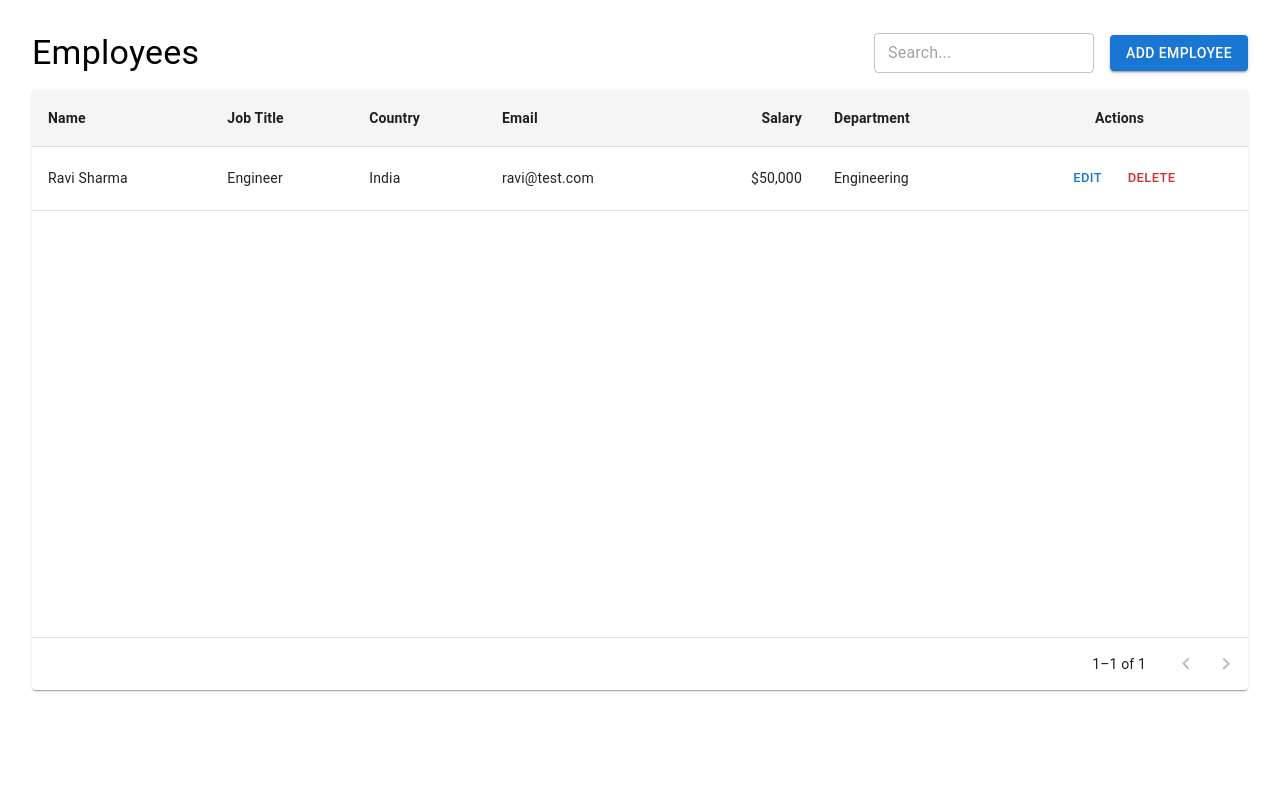
Test case: EmployeesPage › opens edit modal with prefilled data when edit is clicked
Check: the text "Ravi Sharma" is shown, box [32, 147, 211, 211]
What coordinates should you click on to do the following:
click the button "Edit"
I would click on:
 (1088, 178)
Its box is [1056, 163, 1120, 194].
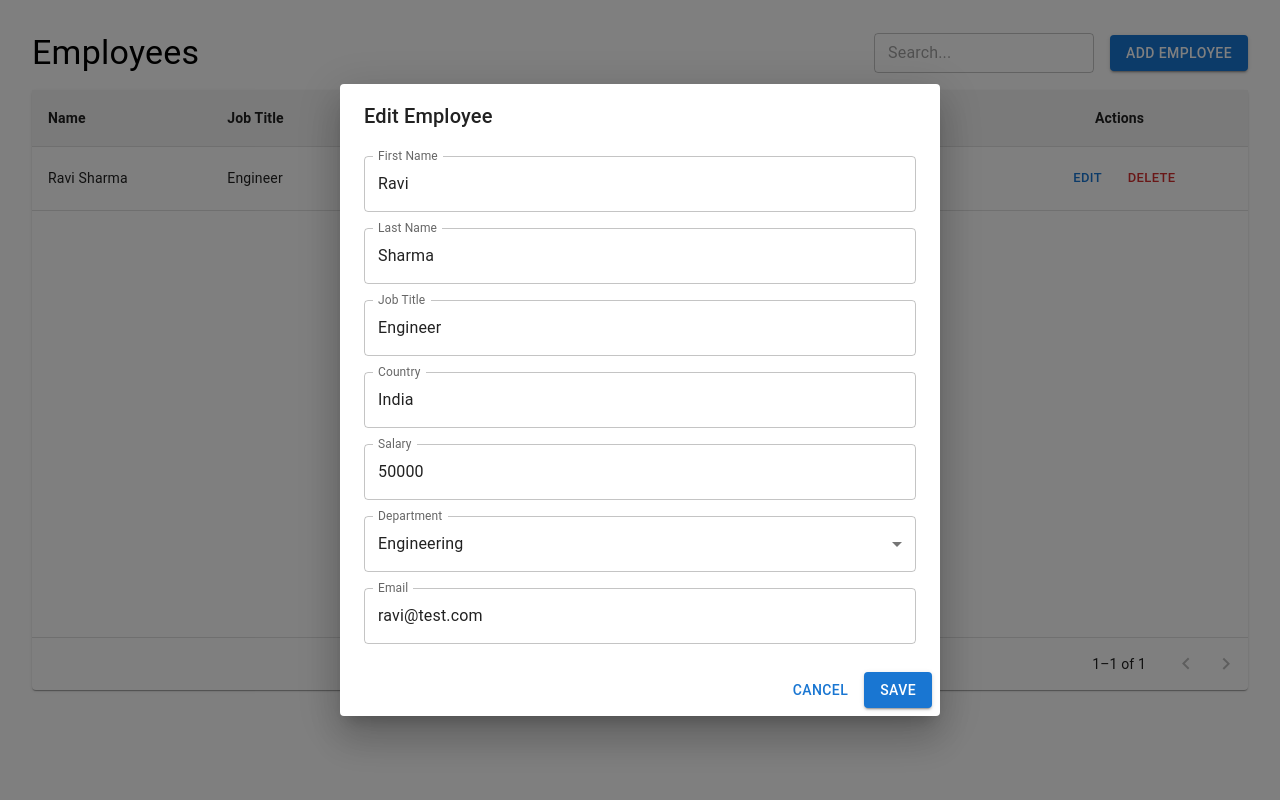
Check: the field labelled "First Name" holds "Ravi", box [364, 156, 916, 212]
Check: the field labelled "Last Name" holds "Sharma", box [364, 228, 916, 284]
Check: the field labelled "Job Title" holds "Engineer", box [364, 300, 916, 356]
